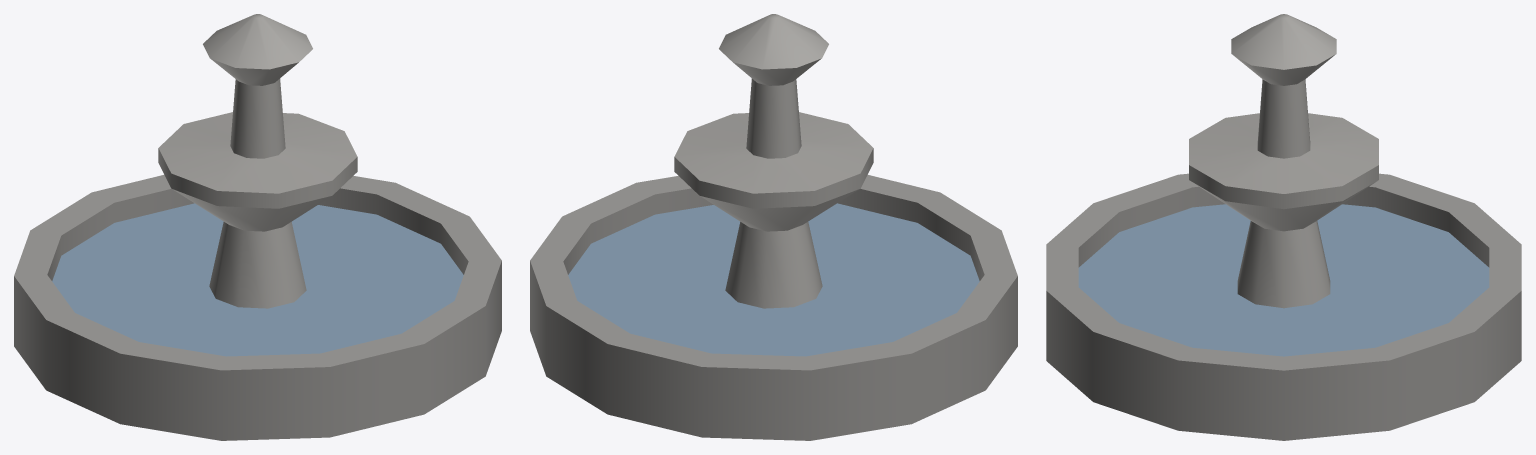
File: fountain.gltf
3 views of the same model, side by side, from view 1: azimuth 30°, elevation 25°; view 2: azimuth 150°, elevation 25°; view 3: azimuth 270°, elevation 25° (orthographic).
Visible parts, largest first — view 1: Body; view 2: Body; view 3: Body.
Part boxes in pixels (x1,y1,x2,y2): Body: [14, 14, 501, 440]; Body: [530, 14, 1017, 440]; Body: [1046, 14, 1521, 440].
Bounding box in the file's own units: 4.4 × 3.2 × 4.29.
